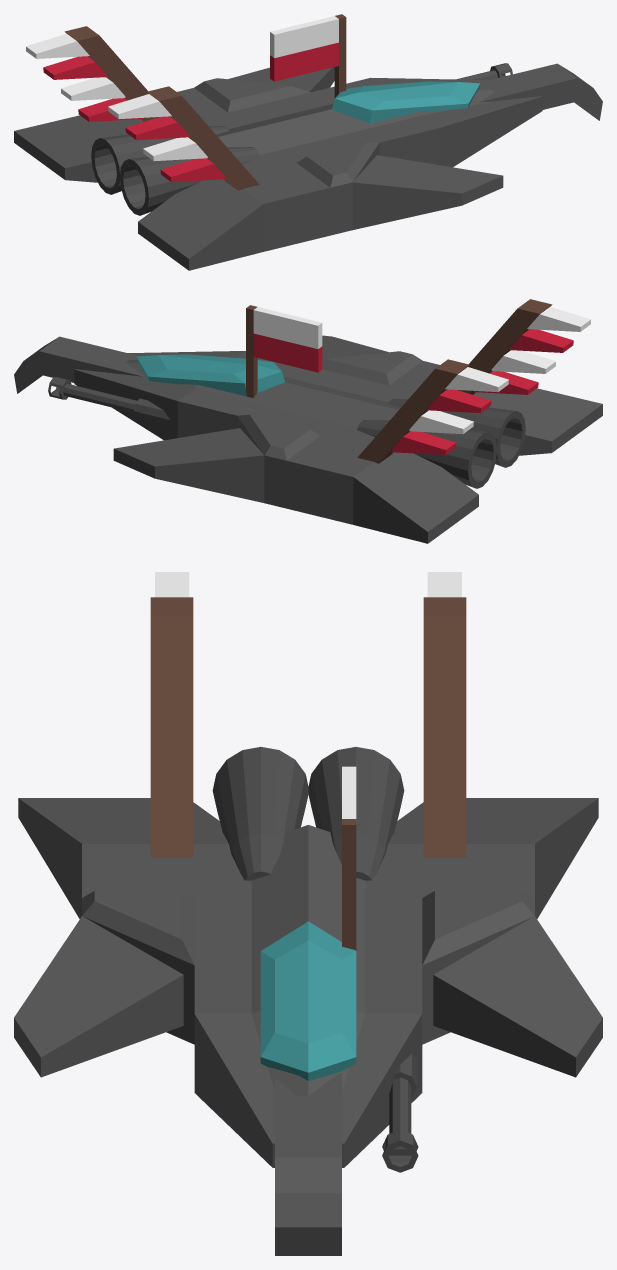
File: husar.fbx
3 views of the same model, one above another, from view 1: azimuth 30°, elevation 25°; view 2: azimuth 150°, elevation 25°; view 3: azimuth 270°, elevation 25° (orthographic). The views are drawn at different scales.
Visible parts, largest first — view 1: Husar; view 2: Husar; view 3: Husar.
Part boxes in pixels (x1=…): Husar: x1=14, y1=14, x2=602, y2=270; Husar: x1=14, y1=299, x2=602, y2=543; Husar: x1=14, y1=572, x2=602, y2=1255.
Size of the model in its own units: 10.75 by 3.24 by 6.35.
